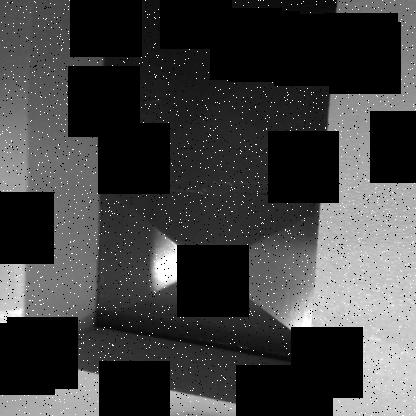Porte: (89, 0, 344, 368)
